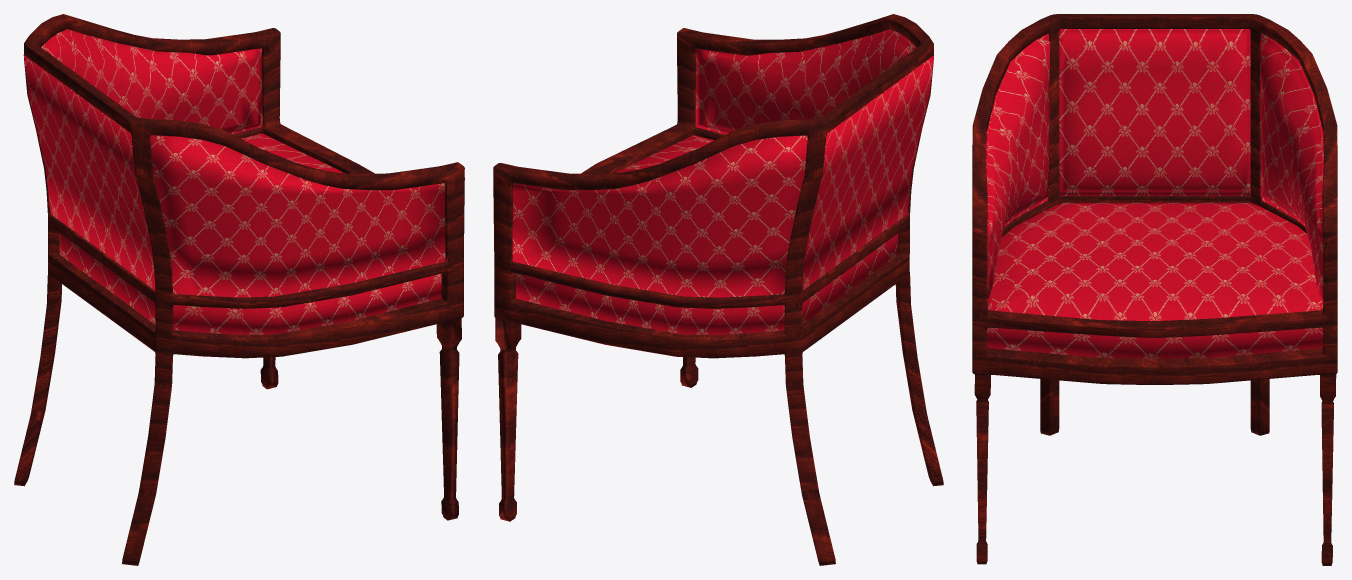
The model's file is luxuriously-Chair_01.fbx.
3 renders of one model, left to right at view 1: azimuth 30°, elevation 25°; view 2: azimuth 150°, elevation 25°; view 3: azimuth 270°, elevation 25°, orthographic. The views are drawn at different scales.
Parts seen in each view (by area): view 1: Cube.001; view 2: Cube.001; view 3: Cube.001.
Part boxes in pixels (x1=…): Cube.001: x1=14, y1=14, x2=464, y2=565; Cube.001: x1=493, y1=14, x2=943, y2=565; Cube.001: x1=972, y1=14, x2=1337, y2=565.
Bounding box in the file's own units: 82.64 × 107 × 84.83.
